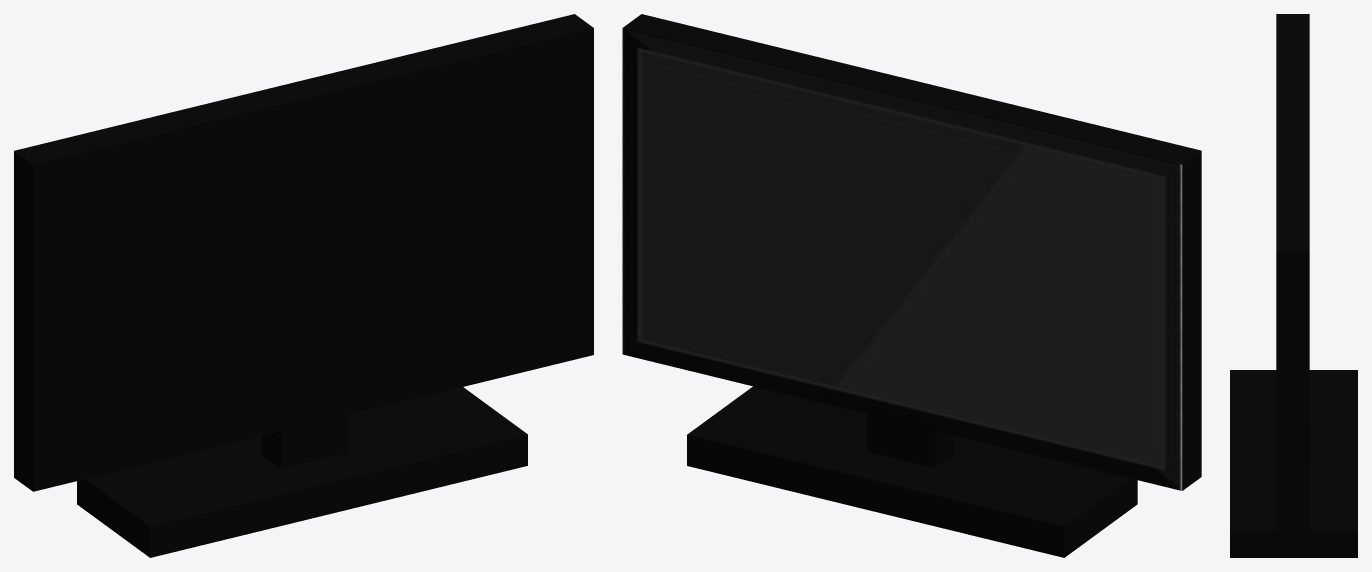
3 renders of one model, left to right at view 1: azimuth 30°, elevation 25°; view 2: azimuth 150°, elevation 25°; view 3: azimuth 270°, elevation 25°, orthographic. The views are drawn at different scales.
Visible parts, largest first — view 1: Box003, Box001, Box002; view 2: Box003, Box001, Box002; view 3: Box001, Box003.
Boxes of the visible parts, x1,y1,x2,y2 form: Box003: [14, 14, 593, 491]; Box001: [77, 387, 527, 557]; Box002: [261, 404, 348, 468]; Box003: [622, 14, 1201, 490]; Box001: [687, 386, 1137, 557]; Box002: [867, 404, 954, 468]; Box001: [1230, 370, 1357, 557]; Box003: [1276, 14, 1309, 537].
Bounding box in the file's own units: 33.33 × 22.48 × 7.55.
2 materials, 1 textured.
